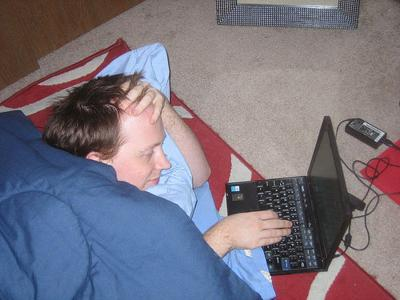person: (42, 74, 293, 300)
